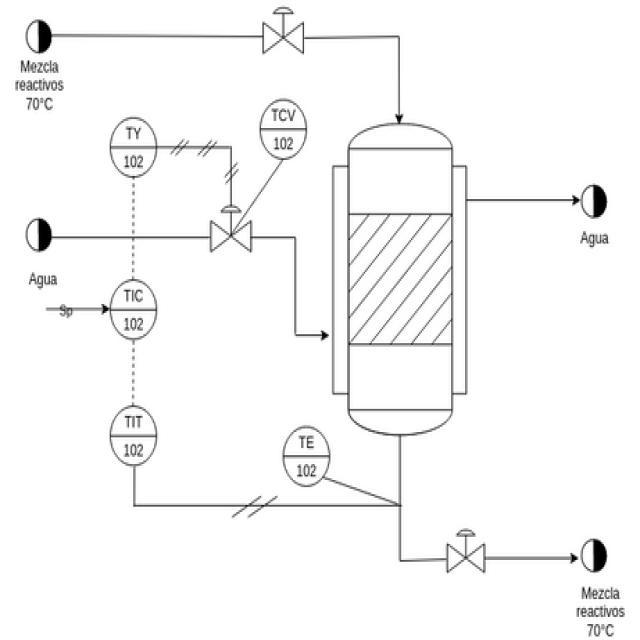Pneumatic-Diaphragm Gate Valve: (240, 0, 320, 73), (198, 201, 256, 268), (442, 521, 494, 587)
pneumatic: (228, 476, 282, 541), (194, 122, 217, 162), (168, 134, 190, 160), (220, 158, 242, 184)
